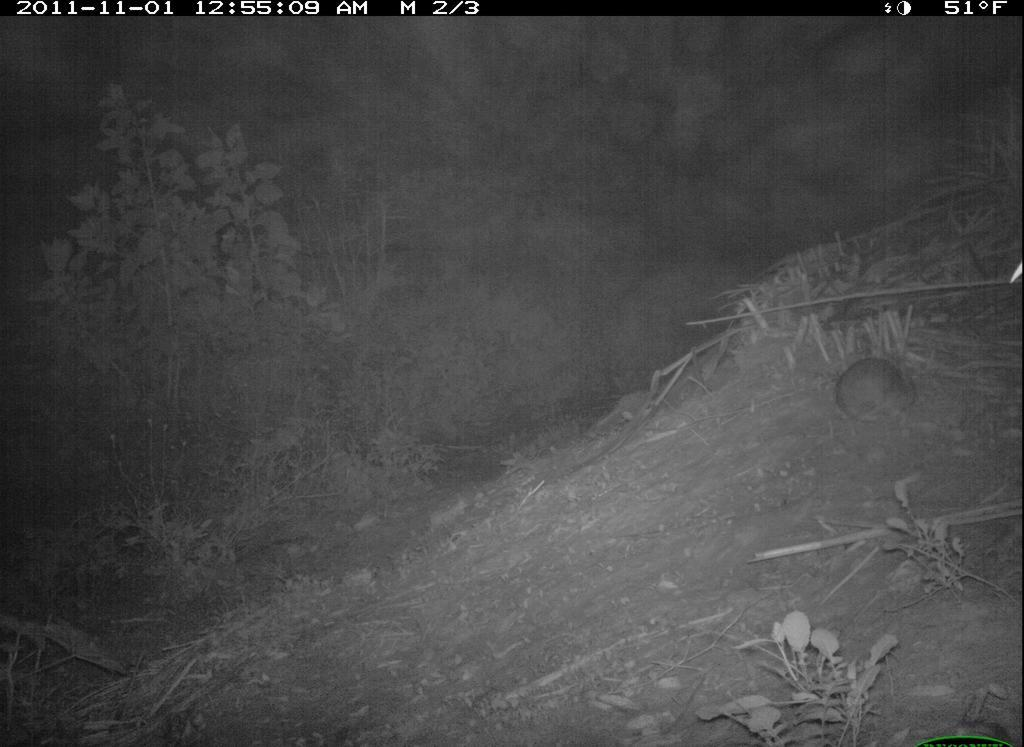rabbit: (829, 329, 929, 434)
